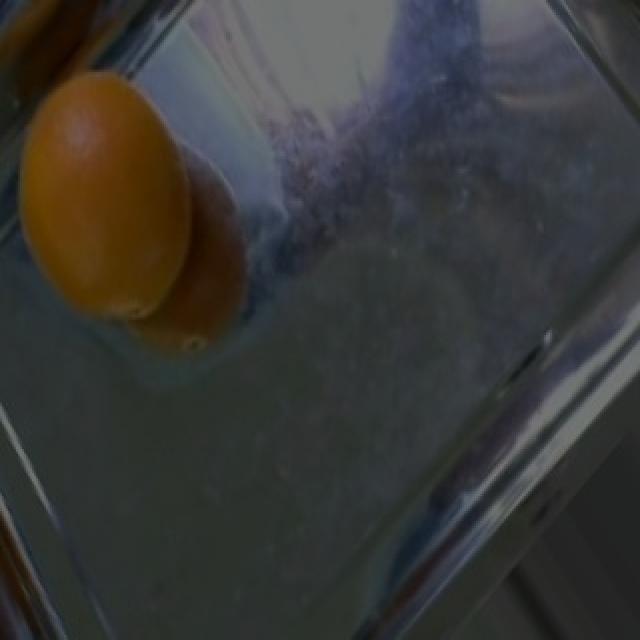Fruit: (0, 72, 220, 350)
